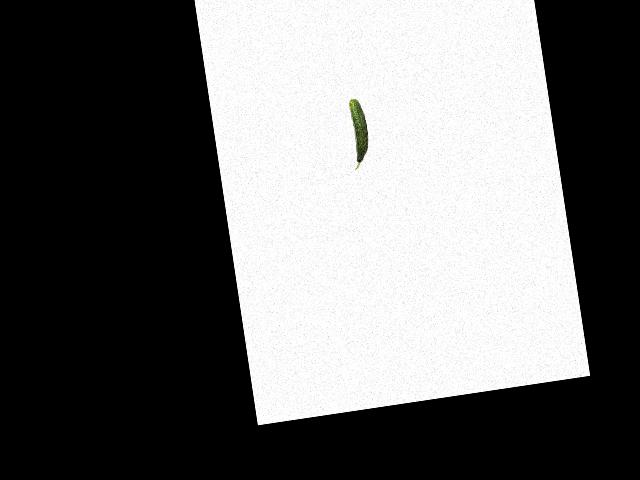cucumber: (345, 98, 372, 170)
